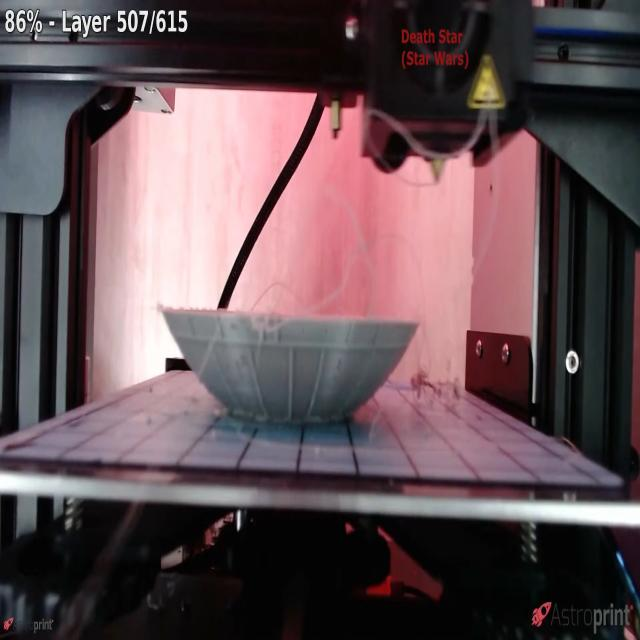spaghetti: (110, 104, 508, 483)
